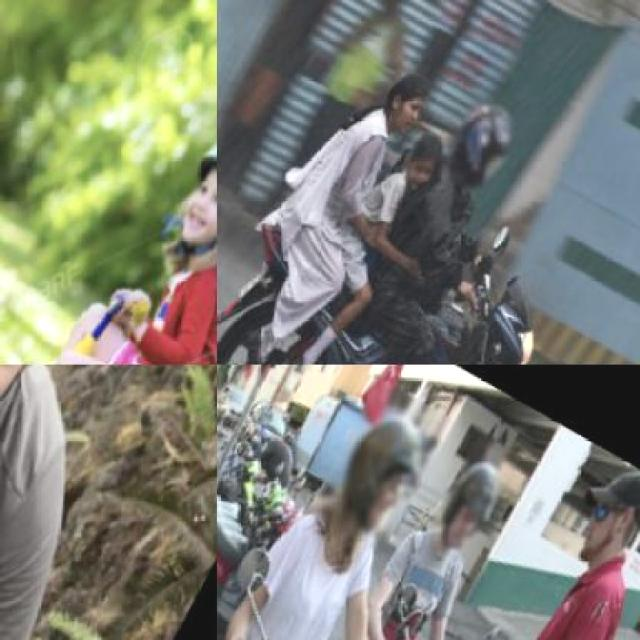With Helmet: (306, 364, 457, 554), (0, 364, 142, 482), (421, 418, 525, 562), (147, 88, 216, 292), (435, 74, 536, 198)
Without Helmet: (378, 54, 442, 126), (400, 117, 455, 181)
